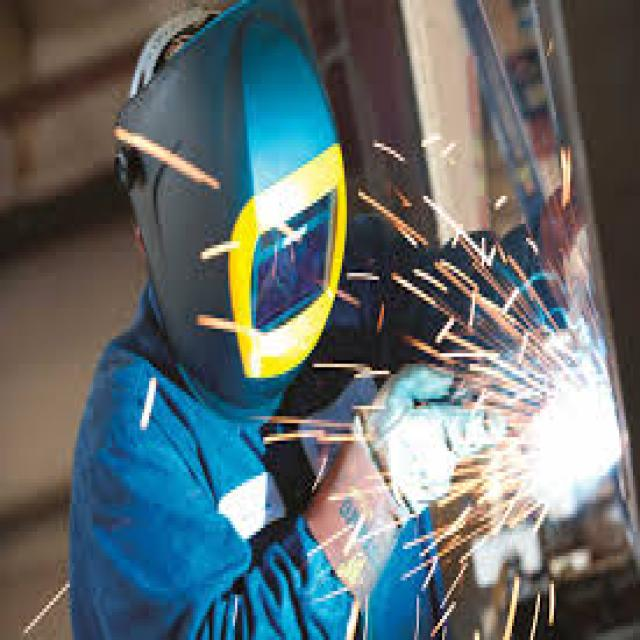welding: (526, 382, 624, 491)
